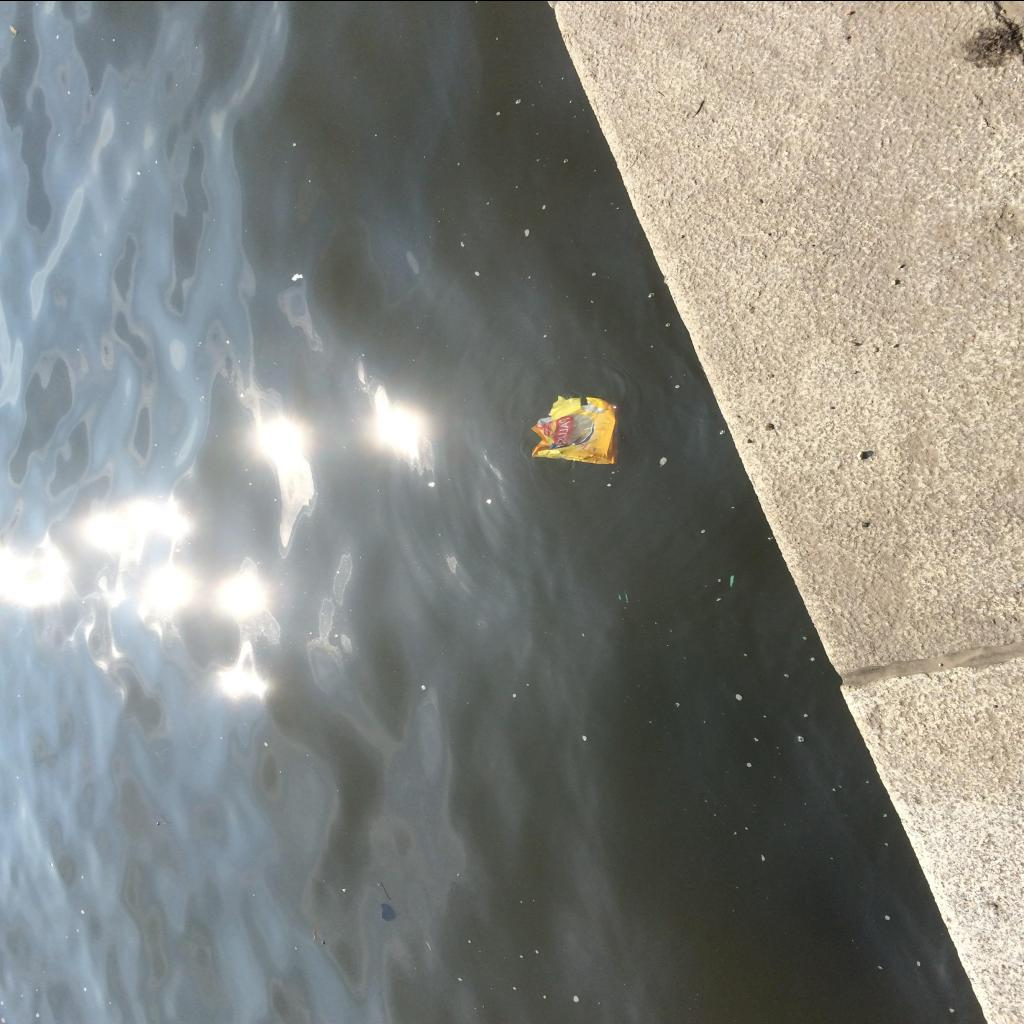Other plastic wrapper: (730, 574, 734, 586)
Plastic film: (530, 395, 618, 463)
Unlabeled litter: (624, 590, 628, 600), (619, 594, 621, 598)
